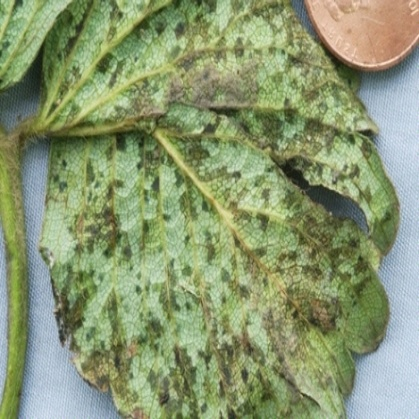Angular_LS: (19, 0, 385, 418), (2, 89, 418, 418)
